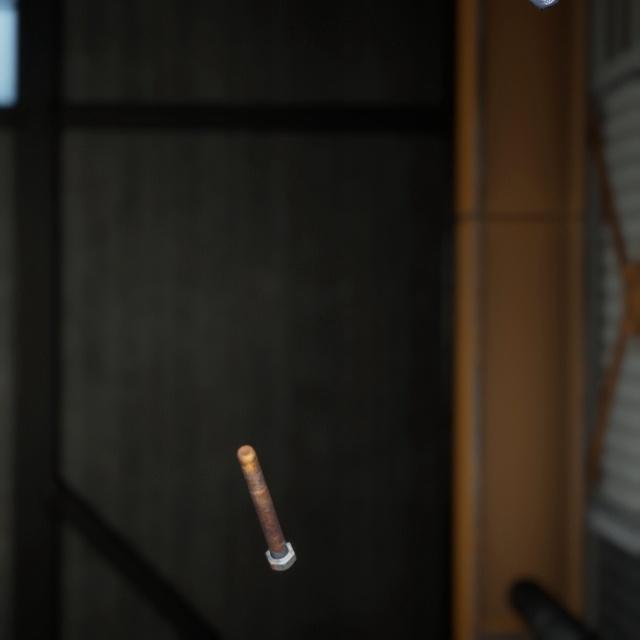bolt: (232, 418, 300, 553)
